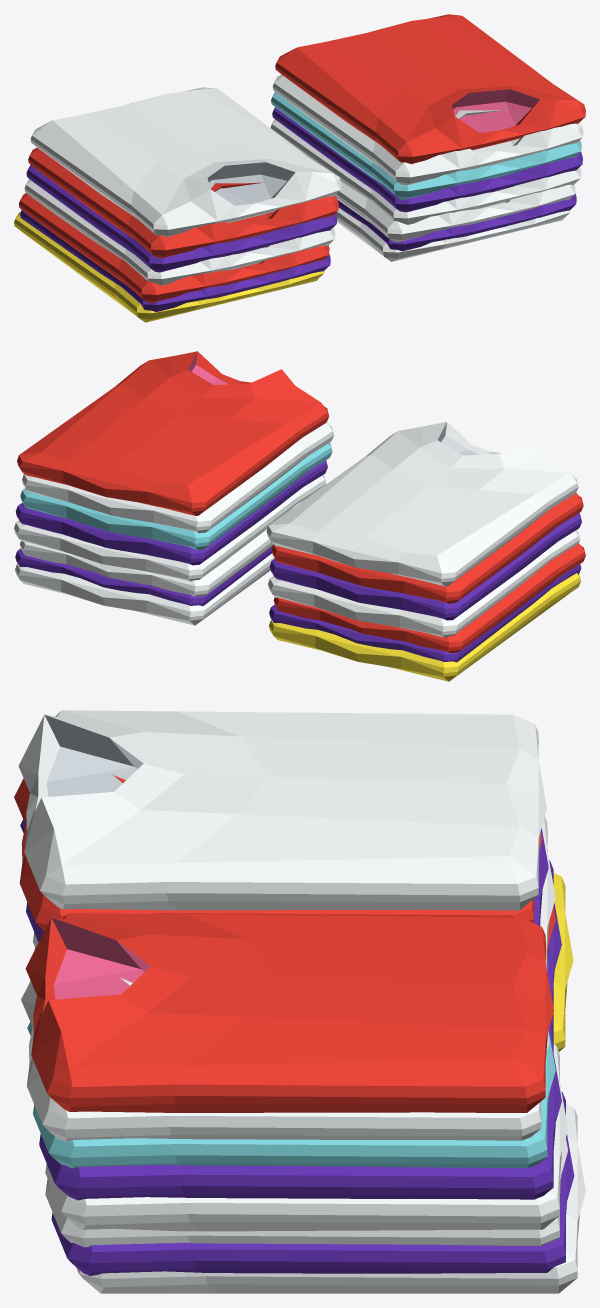
The model's file is shirts-transformed.glb.
The picture shows the model from 3 angles, top to bottom: view 1: azimuth 30°, elevation 25°; view 2: azimuth 150°, elevation 25°; view 3: azimuth 270°, elevation 25°; orthographic projection. The views are drawn at different scales.
Visible parts, largest first — view 1: group1851623675; view 2: group1851623675; view 3: group1851623675.
Boxes of the visible parts, box(x1,y1,x2,y2) form: group1851623675: box(14, 14, 585, 322); group1851623675: box(14, 351, 585, 681); group1851623675: box(14, 710, 585, 1293).
Size of the model in its own units: 1.54 by 0.474 by 0.9213.
Materials: 1 (1 with a texture image).
